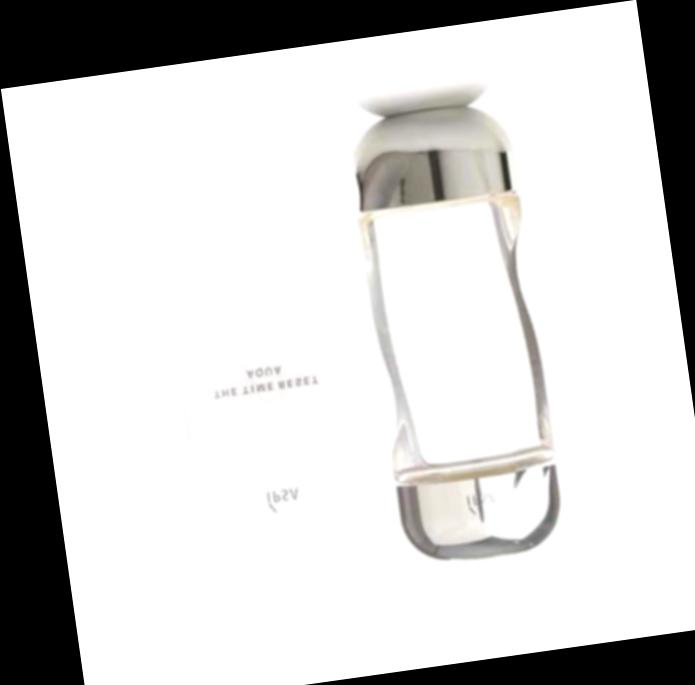cosmetic: (345, 94, 575, 568)
